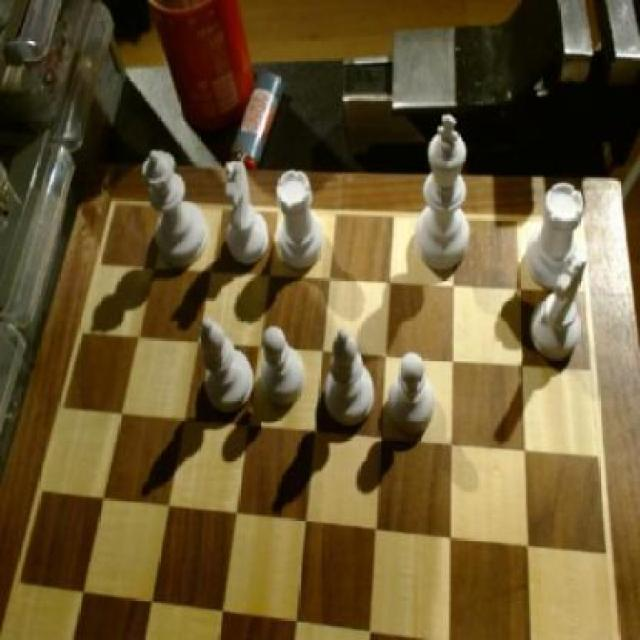black-rook: (192, 315, 253, 414), (325, 329, 376, 426)
white-bishop: (417, 112, 472, 272)
white-king: (528, 258, 592, 370), (222, 160, 270, 265)
white-knight: (388, 346, 435, 437), (257, 325, 305, 409)
white-pawn: (140, 146, 208, 269)
white-queen: (529, 180, 589, 300), (277, 169, 325, 271)
